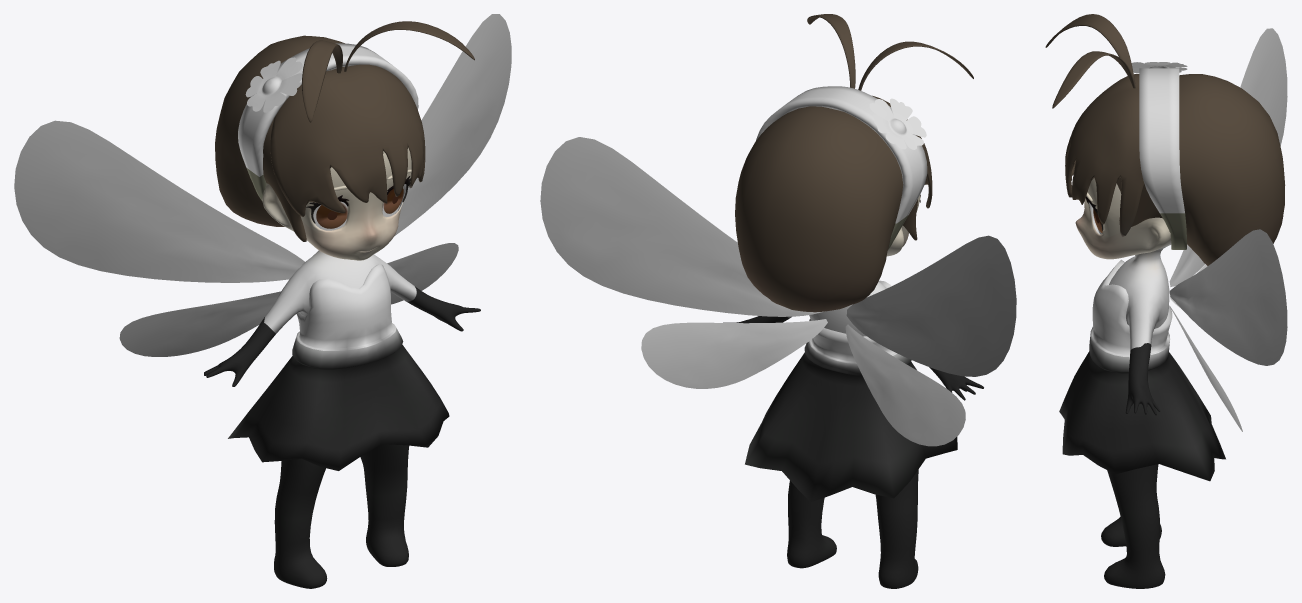
The model's file is Fairy_Girl_lp.fbx.
The picture shows the model from 3 angles, left to right: view 1: azimuth 30°, elevation 25°; view 2: azimuth 150°, elevation 25°; view 3: azimuth 270°, elevation 25°; orthographic projection. The views are drawn at different scales.
Visible parts, largest first — view 1: Fairy_Girl; view 2: Fairy_Girl; view 3: Fairy_Girl.
Boxes of the visible parts, x1,y1,x2,y2 form: Fairy_Girl: (14, 14, 511, 588); Fairy_Girl: (540, 14, 1016, 588); Fairy_Girl: (1045, 14, 1287, 588).
Bounding box in the file's own units: 55.42 × 58.36 × 24.37.
